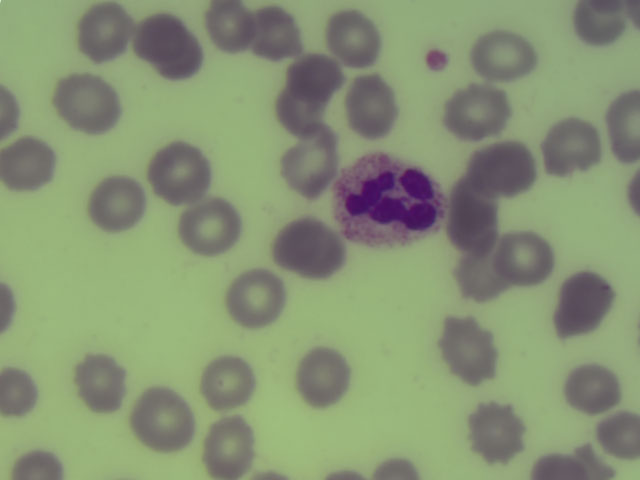Platelets: (430, 52, 450, 74)
RBC: (434, 320, 500, 391), (132, 381, 195, 454), (52, 75, 122, 139), (282, 218, 352, 278), (473, 404, 533, 468), (551, 274, 611, 336), (455, 175, 505, 246), (73, 351, 130, 413), (178, 200, 242, 255), (229, 271, 287, 330), (280, 136, 337, 196), (563, 362, 624, 418), (203, 415, 256, 479), (453, 241, 509, 300), (573, 3, 639, 52), (549, 119, 599, 183), (450, 86, 506, 142), (478, 143, 536, 197), (77, 8, 132, 63), (152, 146, 208, 200), (297, 349, 349, 407), (4, 138, 55, 196), (276, 92, 325, 151), (350, 78, 399, 137), (476, 33, 538, 79), (200, 357, 257, 407), (205, 2, 255, 58), (502, 235, 558, 284), (251, 7, 304, 58), (96, 181, 150, 230), (133, 13, 184, 64), (329, 13, 381, 63), (281, 55, 342, 97), (606, 90, 640, 164), (534, 450, 612, 480), (600, 409, 640, 459), (1, 368, 38, 420), (15, 447, 65, 480), (171, 38, 205, 84), (370, 458, 421, 479), (2, 86, 19, 137), (326, 459, 367, 480), (626, 170, 640, 213), (3, 282, 15, 331)
WBC: (340, 153, 442, 250)
